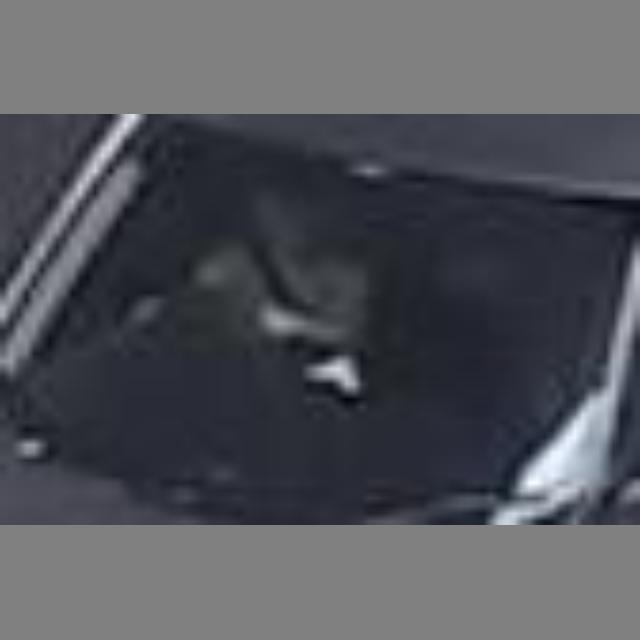pakai: (183, 183, 381, 365)
